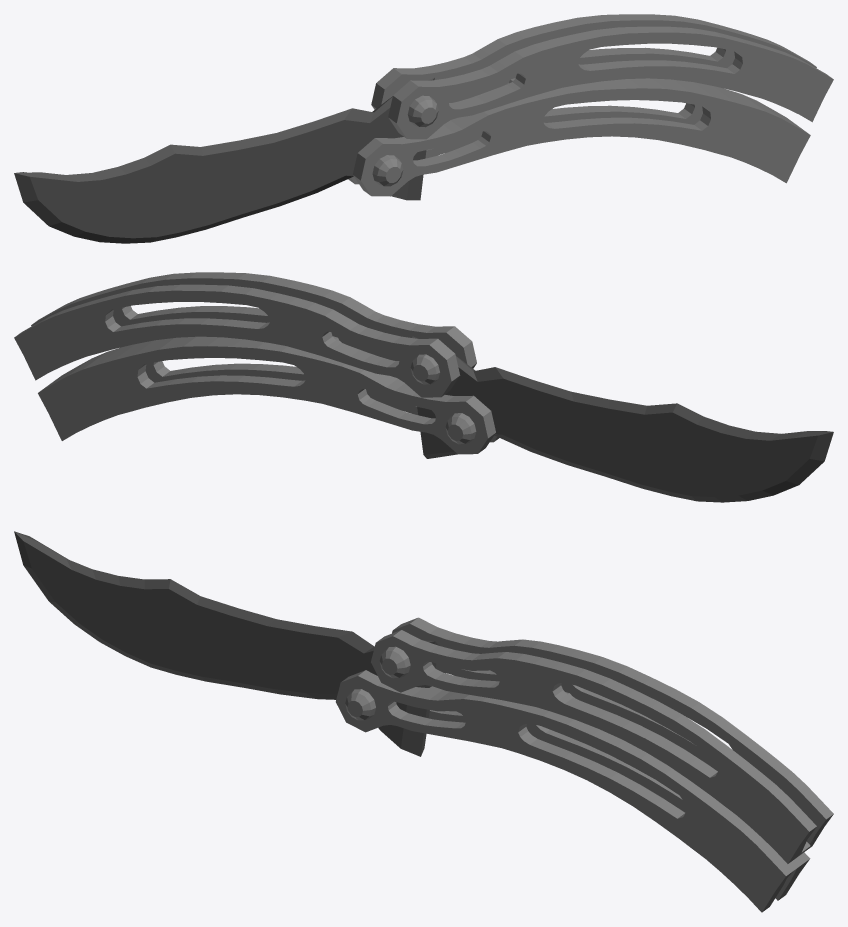
The model's file is CurvedBalisong.fbx.
3 renders of one model, top to bottom at view 1: azimuth 30°, elevation 25°; view 2: azimuth 150°, elevation 25°; view 3: azimuth 330°, elevation 25°, orthographic.
Parts seen in each view (by area): view 1: Cylinder.002, Cube, Cylinder.003; view 2: Cylinder.002, Cube, Cylinder.003; view 3: Cylinder.002, Cube, Cylinder.003.
Part boxes in pixels (x1,y1,x2,y2): Cylinder.002: (371,14,833,139); Cube: (14,77,434,243); Cylinder.003: (348,78,810,196); Cylinder.002: (14,272,476,397); Cube: (412,336,833,502); Cylinder.003: (38,336,498,454); Cylinder.002: (371,617,833,863); Cube: (14,531,438,756); Cylinder.003: (335,670,810,912).
Size of the model in its own units: 898 by 206 by 72.64.
